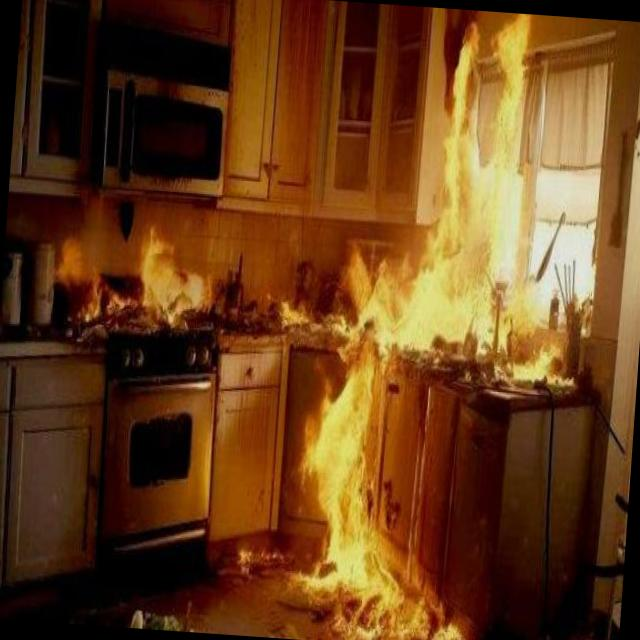Fire_Dangerous: (328, 1, 606, 386), (279, 332, 492, 640), (130, 254, 212, 336)
